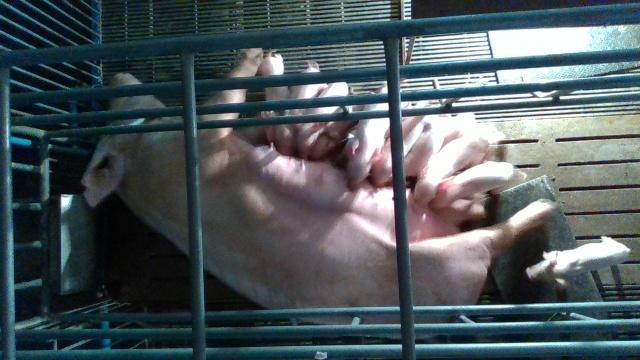piglet: (415, 133, 489, 207), (527, 236, 632, 287), (428, 160, 527, 210), (274, 68, 328, 157), (347, 86, 391, 190), (293, 82, 349, 159)
sow-sleep-lactate: (80, 47, 558, 323)
